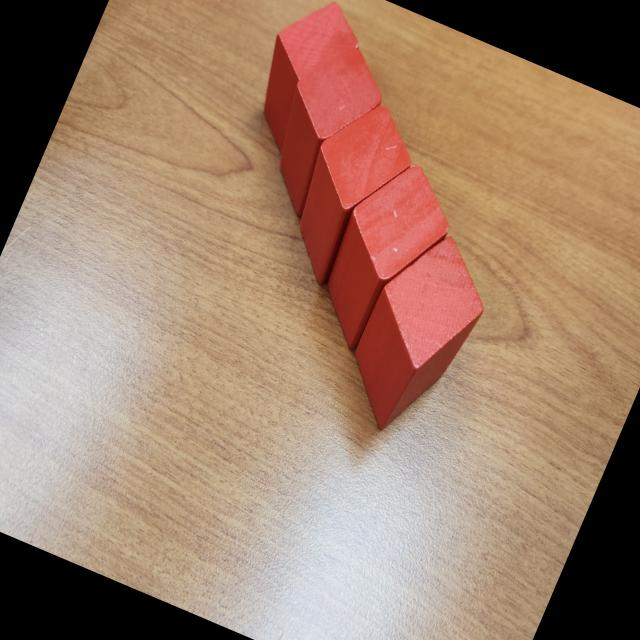red: (354, 236, 483, 430), (326, 165, 449, 353), (297, 105, 409, 284), (278, 48, 382, 218), (262, 1, 359, 154)
